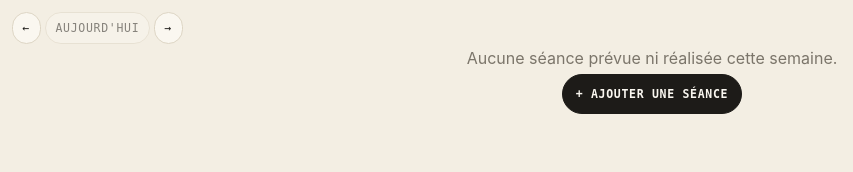
Test: Programme de la semaine : navigation › les flèches changent de semaine et « Aujourd'hui » y revient
expect the button "Aujourd'hui" is disabled: met, box [45,12,150,44]
Click the button named "Semaine suivante".
click(168, 28)  # box [154,12,183,44]
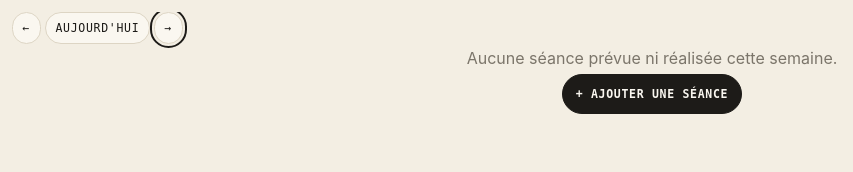
expect the button "Aujourd'hui" is enabled: met, box [45,12,150,44]
Click the button named "Semaine précédente".
click(26, 28)  # box [12,12,41,44]
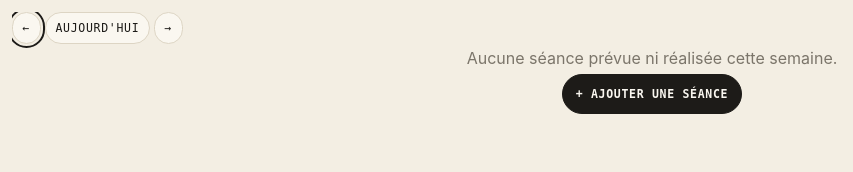
Click the button "Aujourd'hui".
click(97, 28)  # box [45,12,150,44]
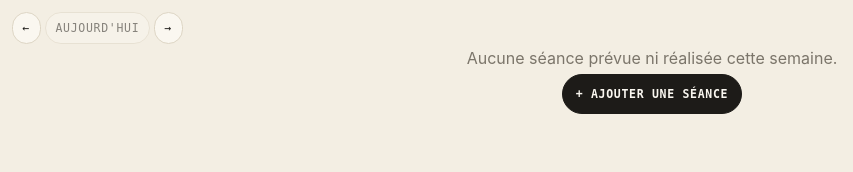
expect the button "Aujourd'hui" is disabled: met, box [45,12,150,44]
